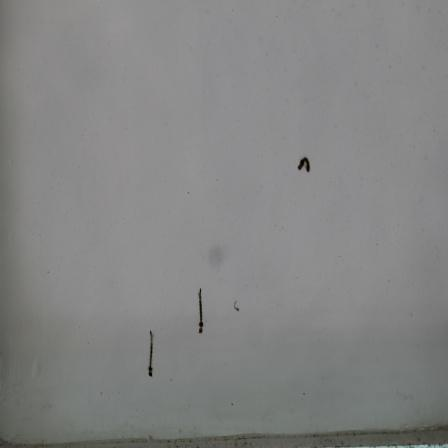Jentik-Nyamuk: (193, 285, 208, 337), (145, 326, 158, 381), (293, 153, 317, 178), (232, 297, 242, 314)
